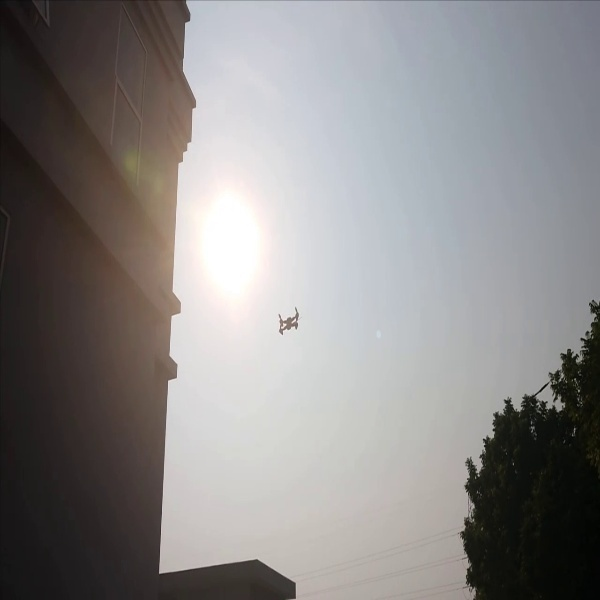drone: (272, 307, 305, 340)
